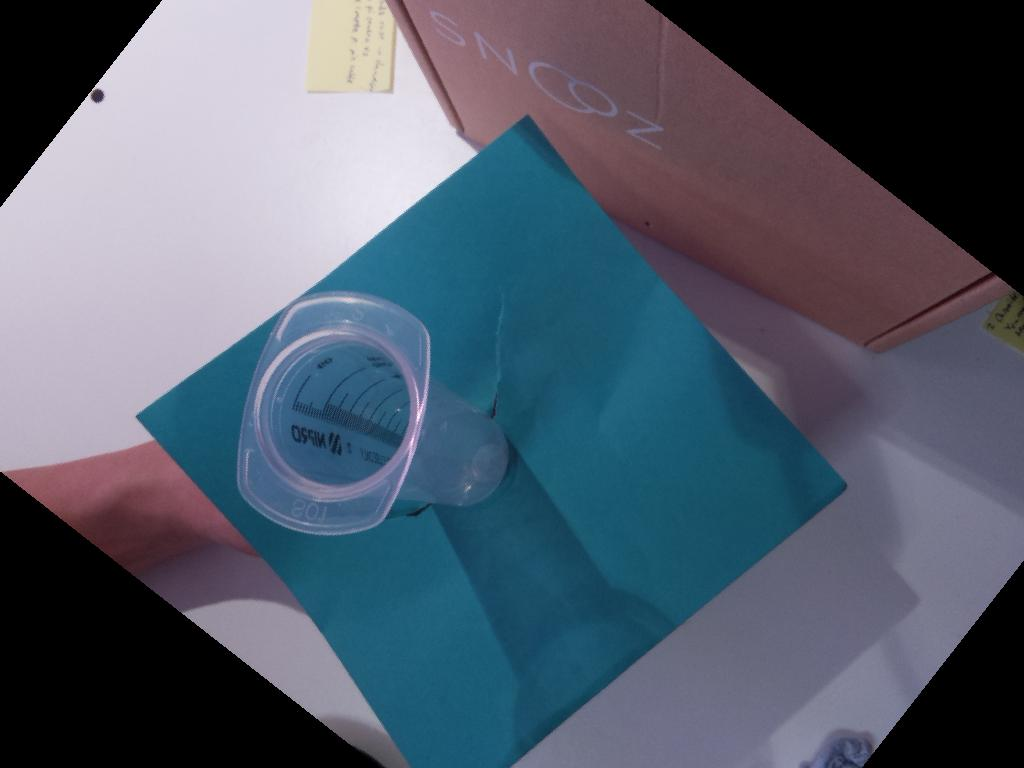clean: (237, 292, 432, 536)
